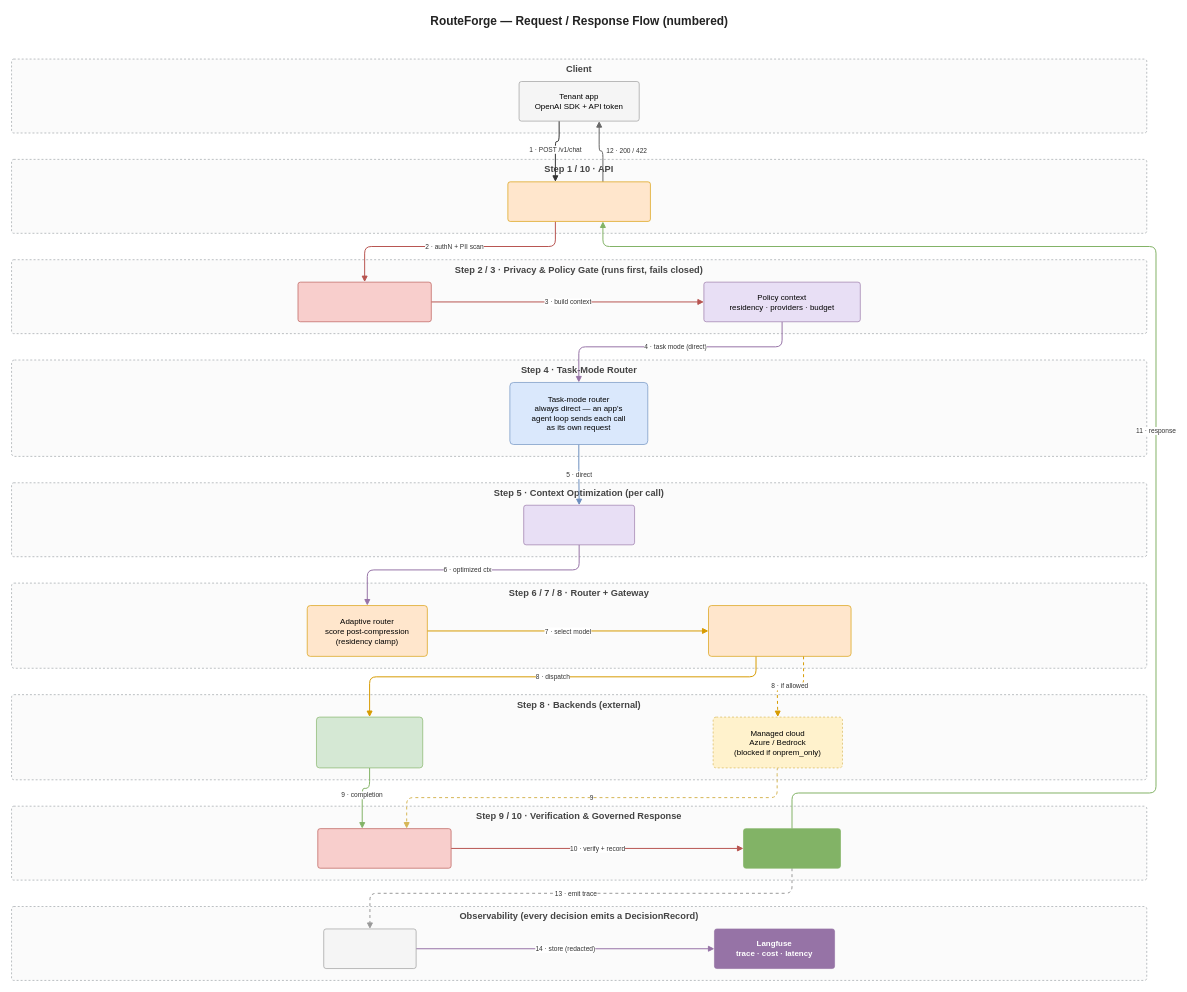
Some shapes in this 1187 by 992 pixel diagram are drawn without their labels. The centre of each missing label's shape, as x and y in pixels:
API :8080 FastAPI (OpenAI-compatible): pixel 578 201
Governed response + DecisionRecord: pixel 792 848
Memory recall · Semantic cache · Headroom compression: pixel 579 525
Model gateway LiteLLM · quotas · breakers: pixel 779 630
On-prem endpoint vLLM / Dynamo / NIM: pixel 369 742
OTel exporter redact on egress: pixel 369 948
Output verify leakage checks · escalate: pixel 384 848
Policy gate Presidio PII scan + rules: pixel 364 301
